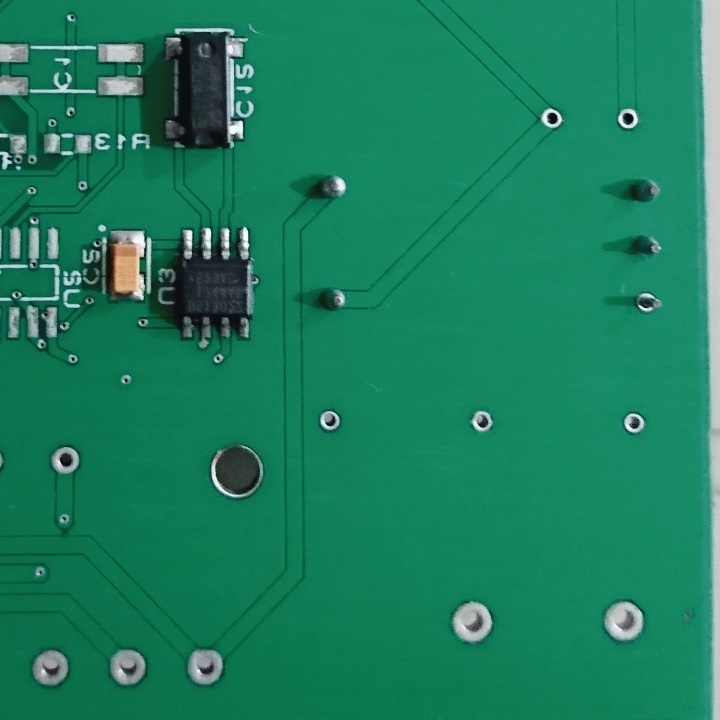F: (449, 595, 499, 651), (599, 596, 647, 649), (105, 643, 150, 693), (183, 643, 227, 688), (30, 645, 71, 692), (47, 446, 81, 476), (633, 286, 661, 321), (613, 103, 644, 134), (537, 104, 567, 133), (623, 409, 649, 437), (469, 409, 496, 435), (315, 406, 342, 432)
